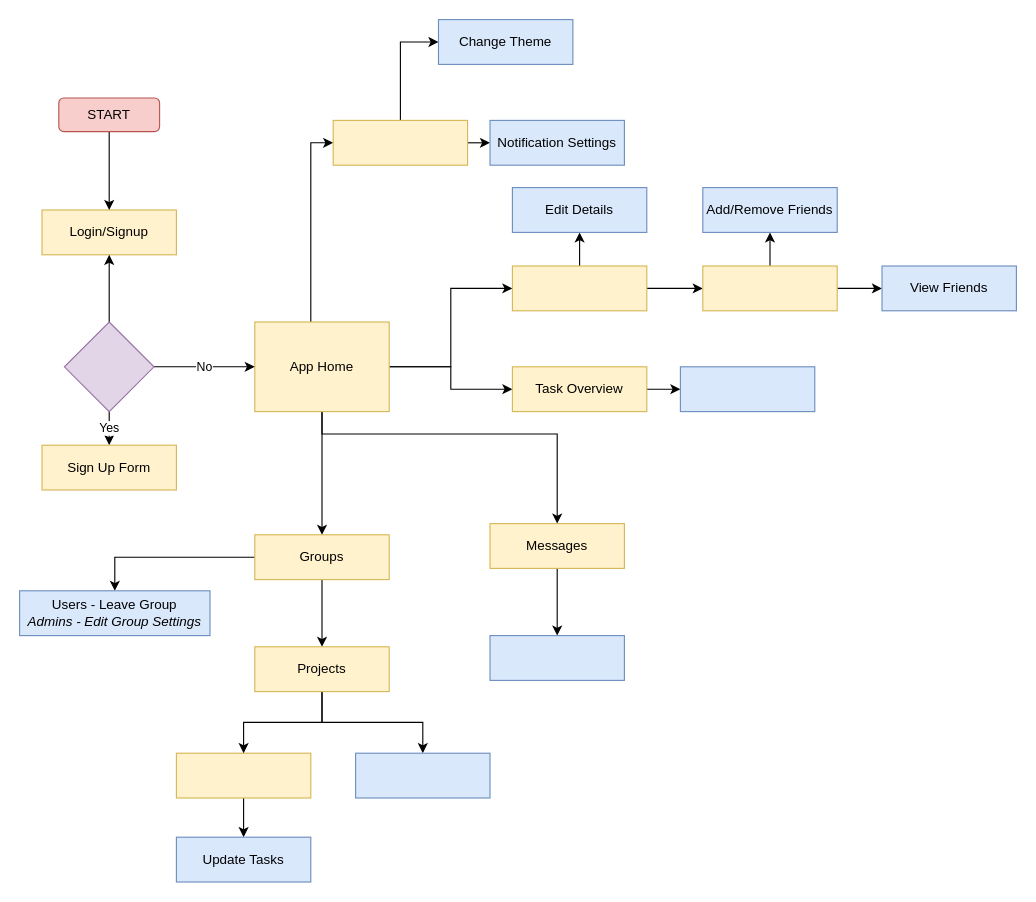
Some shapes in this 1036 by 902 pixel diagram are drawn without their labels. Here are the shapes that lost their labels. From the top down, the centre of each, then its label:
At (400,142): "Settings".
At (579,288): "Profile".
At (769,288): "Friends".
At (108,366): "New Account?".
At (747,389): "View Personal Tasks".
At (556,657): "View/Send Messages to friends".
At (243,775): "Tasks".
At (422,775): "Edit Project/Task Settings".
